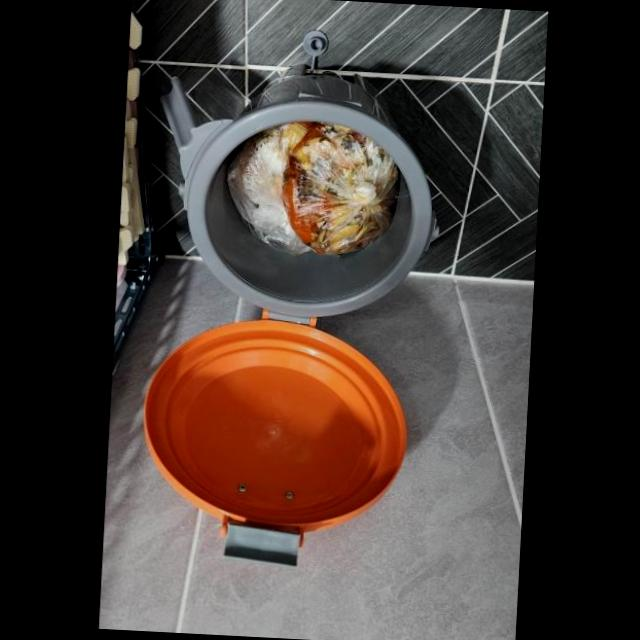thuc_an_thua: (284, 123, 400, 256)
tui_ni_long: (227, 121, 311, 256)
